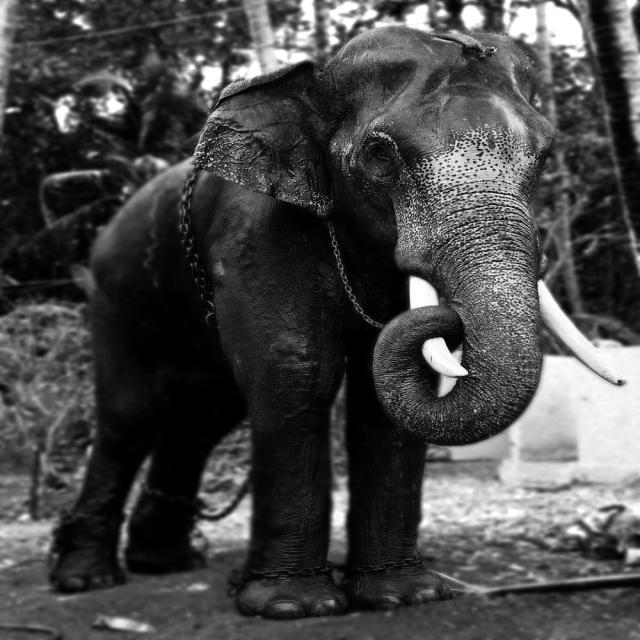Elephant: (54, 18, 566, 624)
